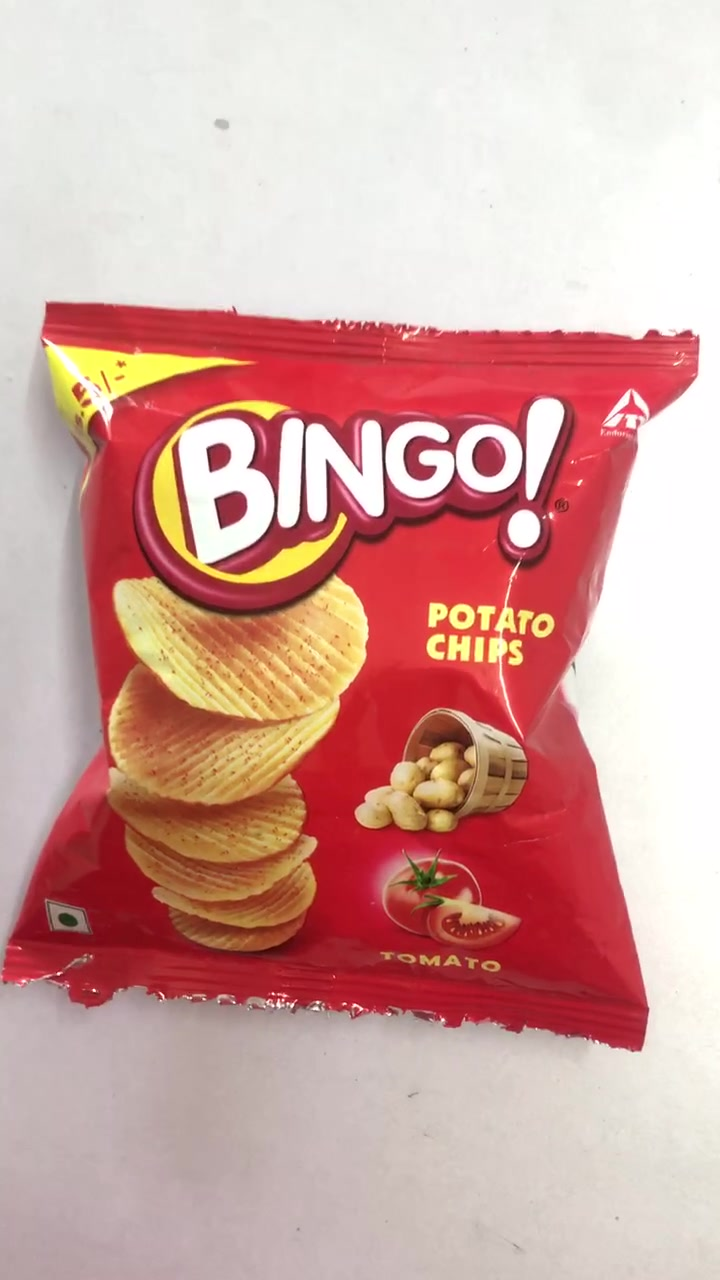Bingo: (10, 302, 702, 1057)
